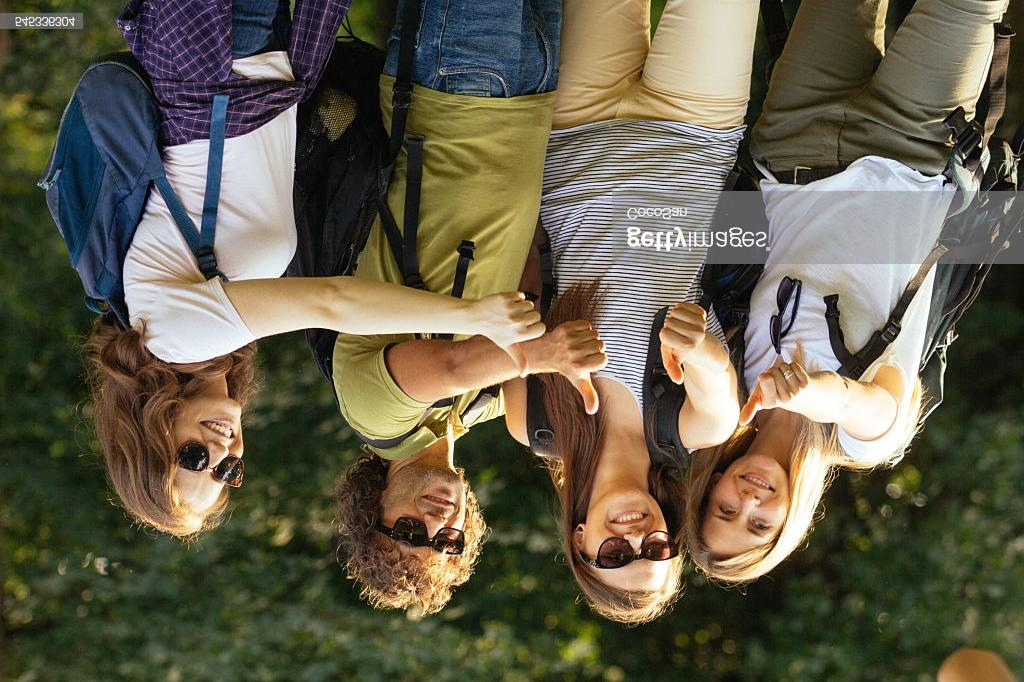thumbsdown: (558, 319, 607, 416), (739, 361, 809, 426), (659, 301, 707, 385), (500, 291, 546, 378)
